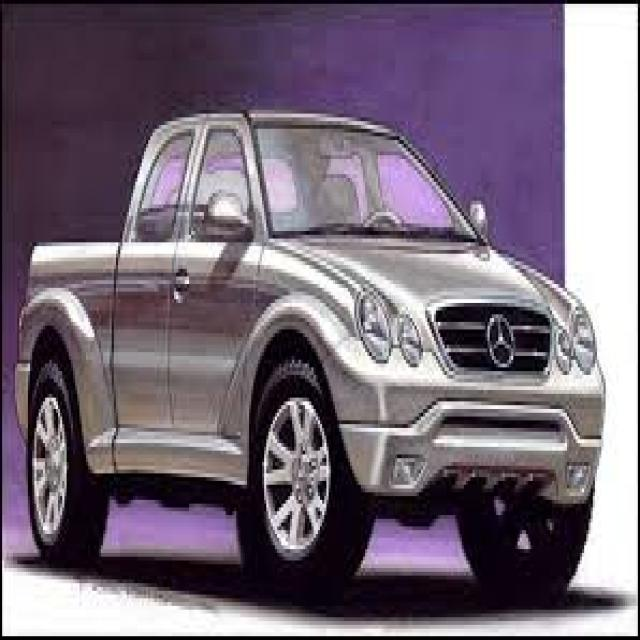Pickup Trucks: (19, 110, 606, 610)
